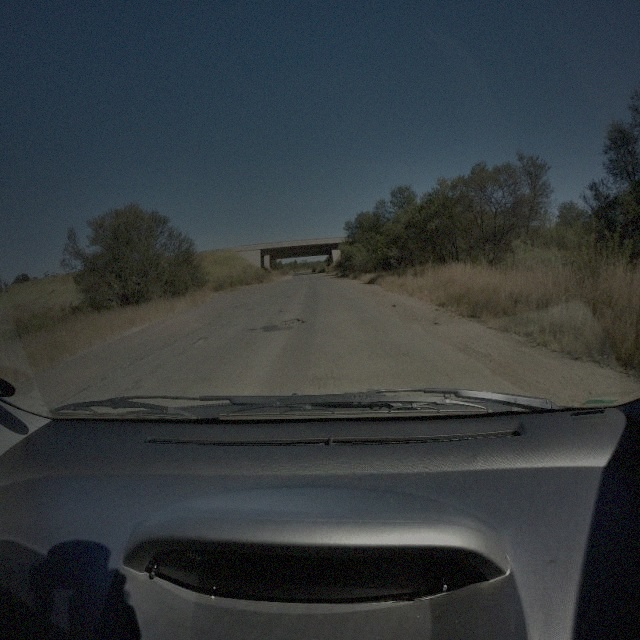pothole: (278, 316, 305, 328), (192, 334, 207, 346)
